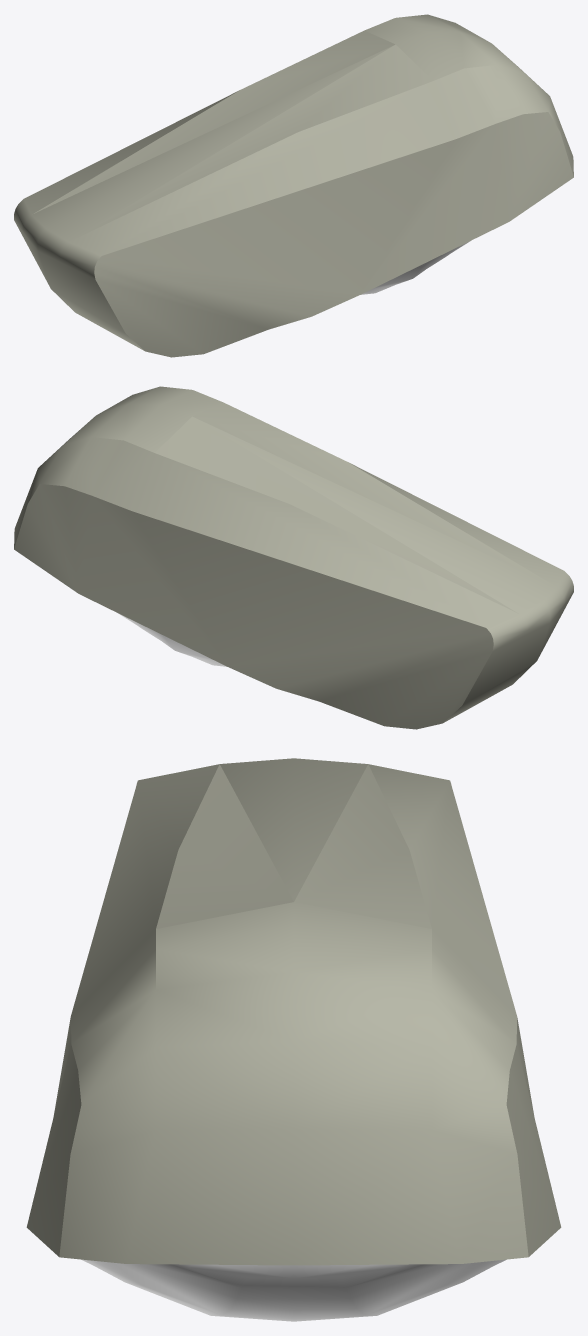
The picture shows the model from 3 angles, top to bottom: view 1: azimuth 30°, elevation 25°; view 2: azimuth 150°, elevation 25°; view 3: azimuth 270°, elevation 25°; orthographic projection. The views are drawn at different scales.
Parts seen in each view (by area): view 1: BezierCurve.006, BezierCurve.004; view 2: BezierCurve.006, BezierCurve.004; view 3: BezierCurve.006, BezierCurve.004.
Boxes of the visible parts, x1=… form: BezierCurve.006: x1=14, y1=14, x2=573, y2=357; BezierCurve.004: x1=361, y1=241, x2=470, y2=294; BezierCurve.006: x1=14, y1=386, x2=573, y2=729; BezierCurve.004: x1=117, y1=613, x2=226, y2=666; BezierCurve.006: x1=26, y1=758, x2=561, y2=1265; BezierCurve.004: x1=81, y1=1259, x2=506, y2=1321.
Bounding box in the file's own units: 0.6225 × 0.2668 × 0.2898.
3 materials, 2 textured.
